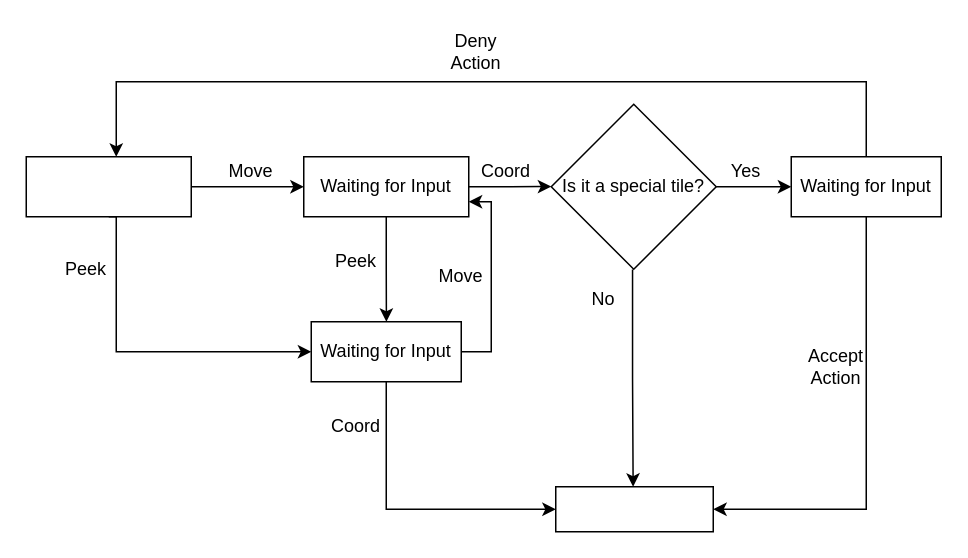
Some shapes in this 968 by 558 pixel diagram are drawn without their labels. Each missing label, with the centre of its shape:
Player Turn: the point at 108,186
Run Step: the point at 633,508
